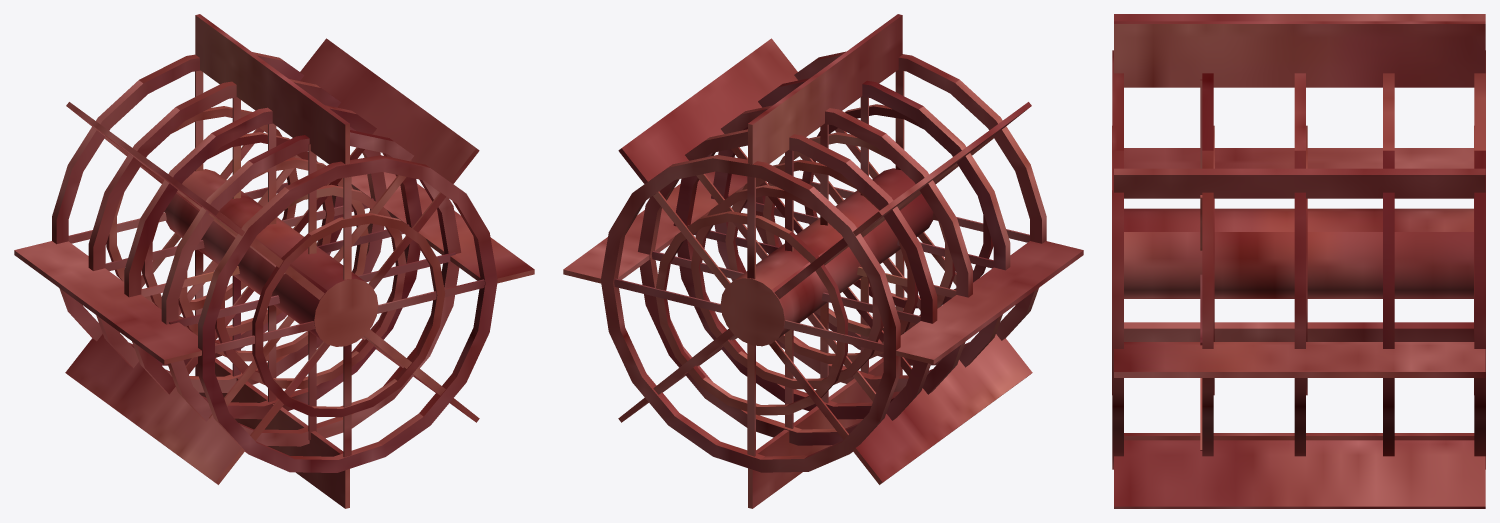
Rendered from boatWheel (1).fbx.
3 views of the same model, side by side, from view 1: azimuth 30°, elevation 25°; view 2: azimuth 150°, elevation 25°; view 3: azimuth 270°, elevation 25° (orthographic). The views are drawn at different scales.
Parts seen in each view (by area): view 1: polySurface157; view 2: polySurface157; view 3: polySurface157.
Boxes of the visible parts, box(x1,y1,x2,y2) form: polySurface157: box(14, 14, 534, 508); polySurface157: box(563, 14, 1083, 508); polySurface157: box(1112, 14, 1485, 508).
Bounding box in the file's own units: 8.89 × 8.81 × 6.27.
1 material, 1 textured.
